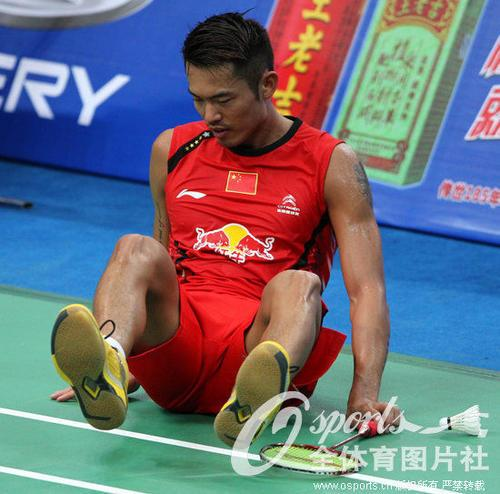bending: (41, 6, 409, 453)
